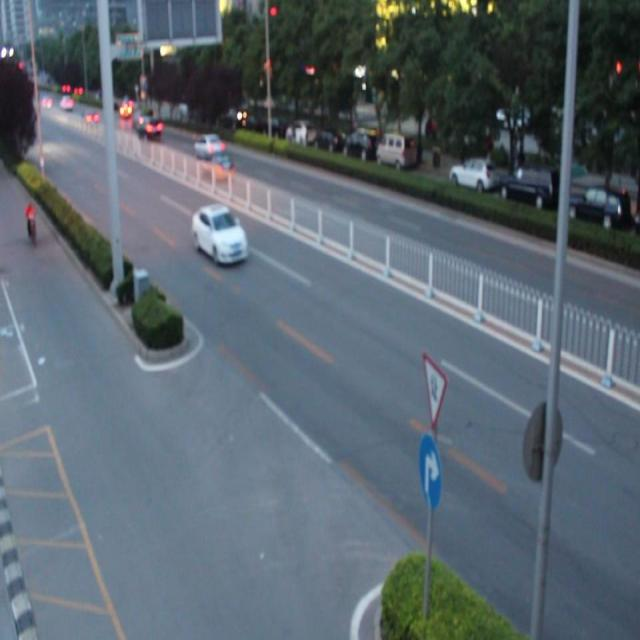car: (194, 206, 248, 265), (196, 150, 234, 182), (194, 133, 228, 161)
